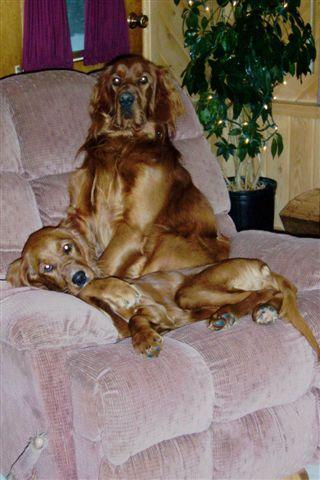Irish_setter: (3, 216, 318, 362), (68, 54, 232, 278)
